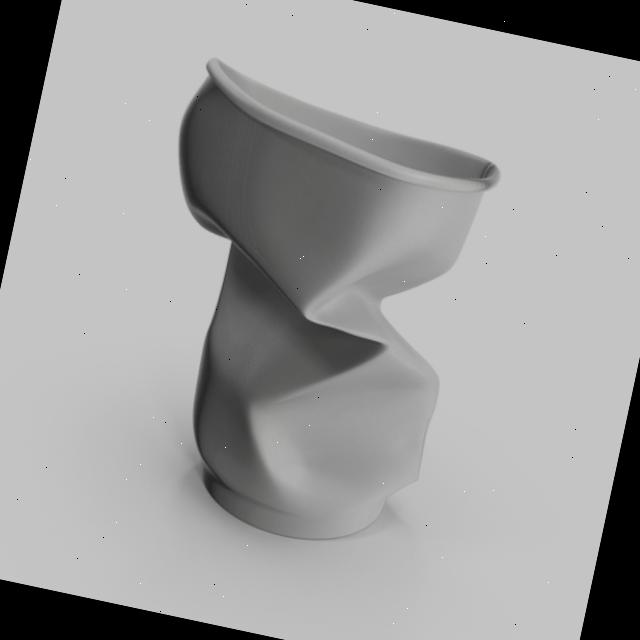trash: (99, 55, 512, 560)
